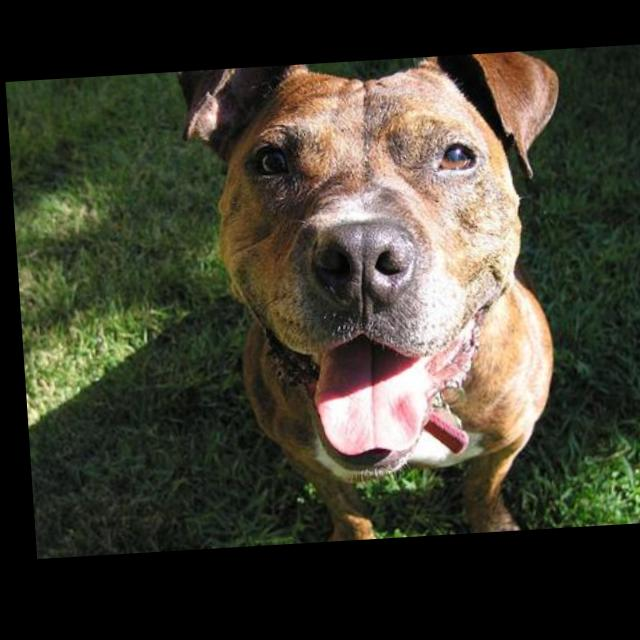amstaff: (174, 57, 584, 552)
